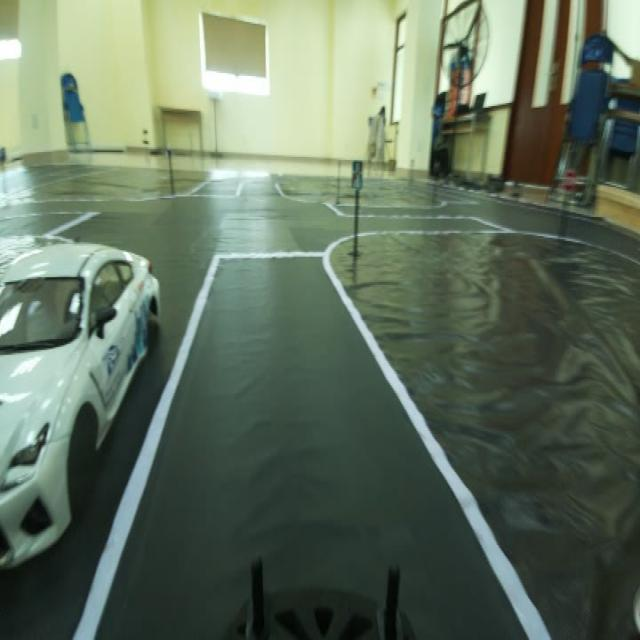car: (2, 145, 165, 579)
highway_exit: (350, 152, 364, 197)
